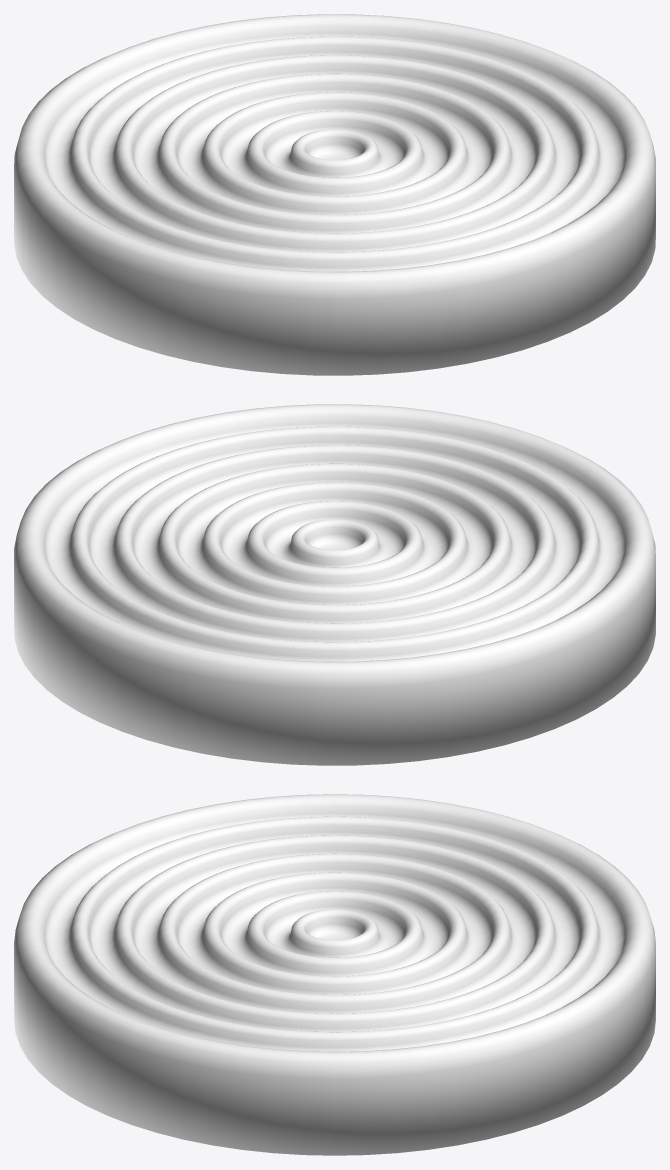
Rendered from rogue.glb.
3 views of the same model, one above another, from view 1: azimuth 30°, elevation 25°; view 2: azimuth 150°, elevation 25°; view 3: azimuth 270°, elevation 25° (orthographic).
Parts seen in each view (by area): view 1: Object_4; view 2: Object_4; view 3: Object_4.
Part boxes in pixels (x1=…): Object_4: x1=14, y1=14, x2=655, y2=375; Object_4: x1=14, y1=404, x2=655, y2=765; Object_4: x1=14, y1=794, x2=655, y2=1155.
Size of the model in its own units: 2 by 0.3302 by 2.
Materials: 1 (1 with a texture image).
